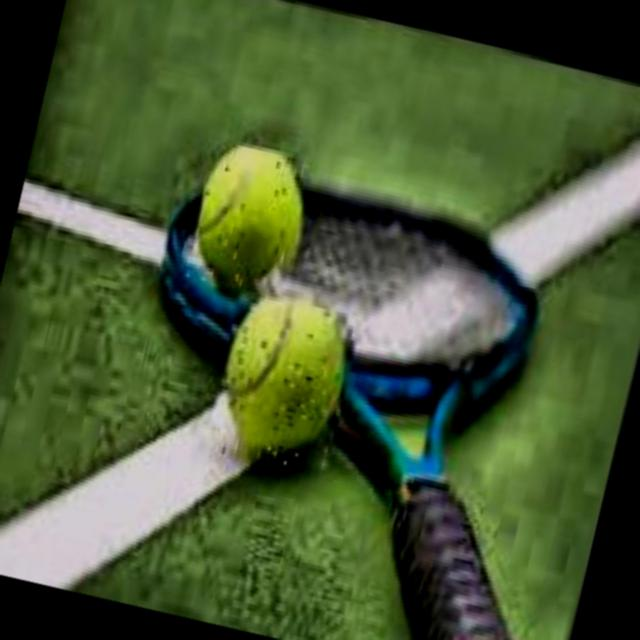tennis-ball: (200, 282, 368, 482), (184, 131, 313, 300)
